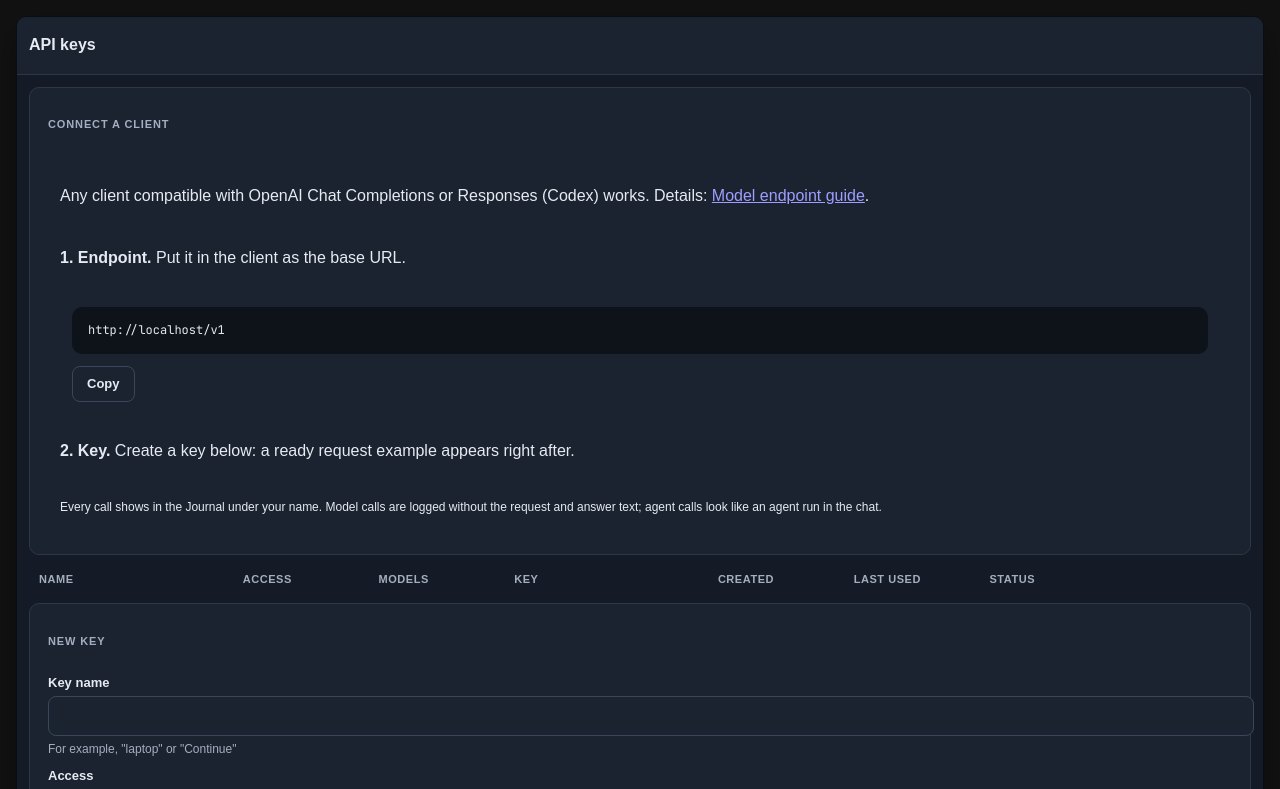
Test: API keys › a new key is shown once together with a curl example
The width and height of the screenshot is (1280, 789).
Later steps or results of the test are not shown.
In the field labelled "Key name": [651, 716] box [48,696,1254,736], type "laptop"
(page scrolled)
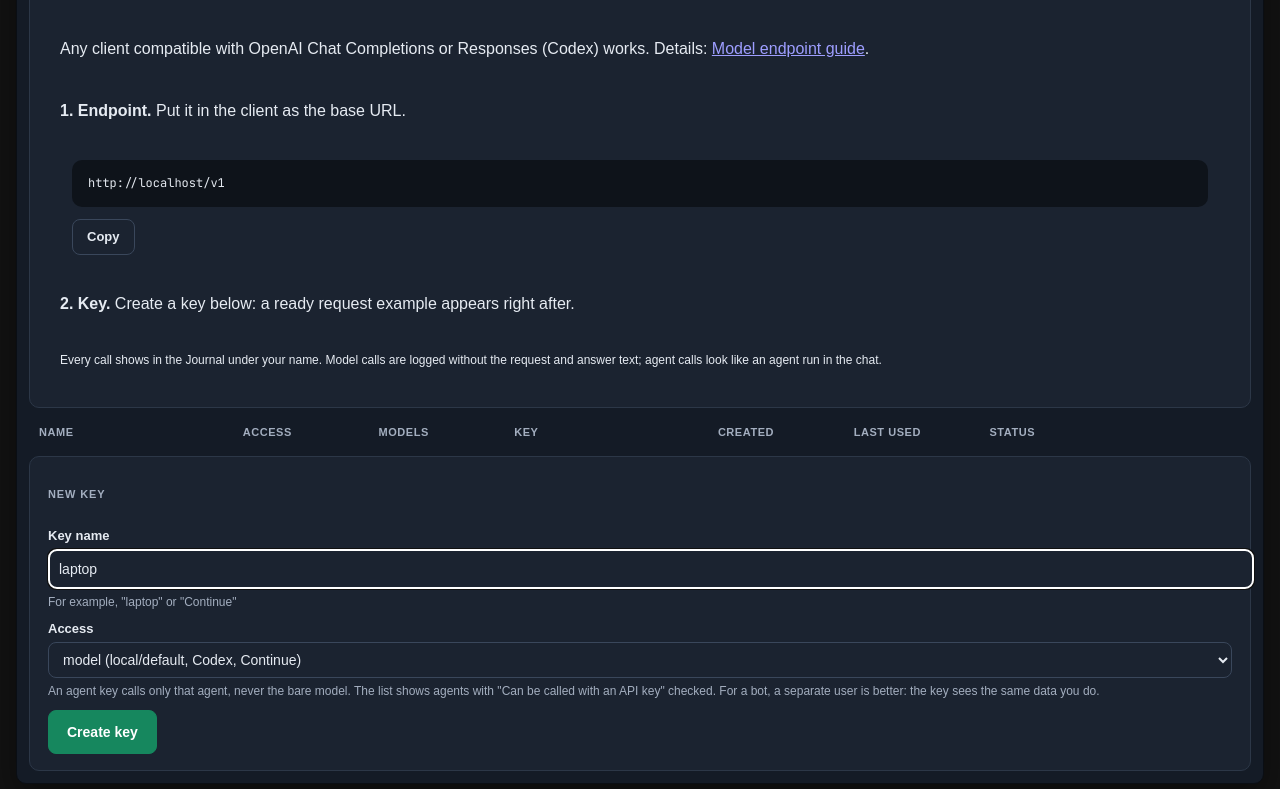
Click the button "Create key": [102, 732] box [48,710,157,754]
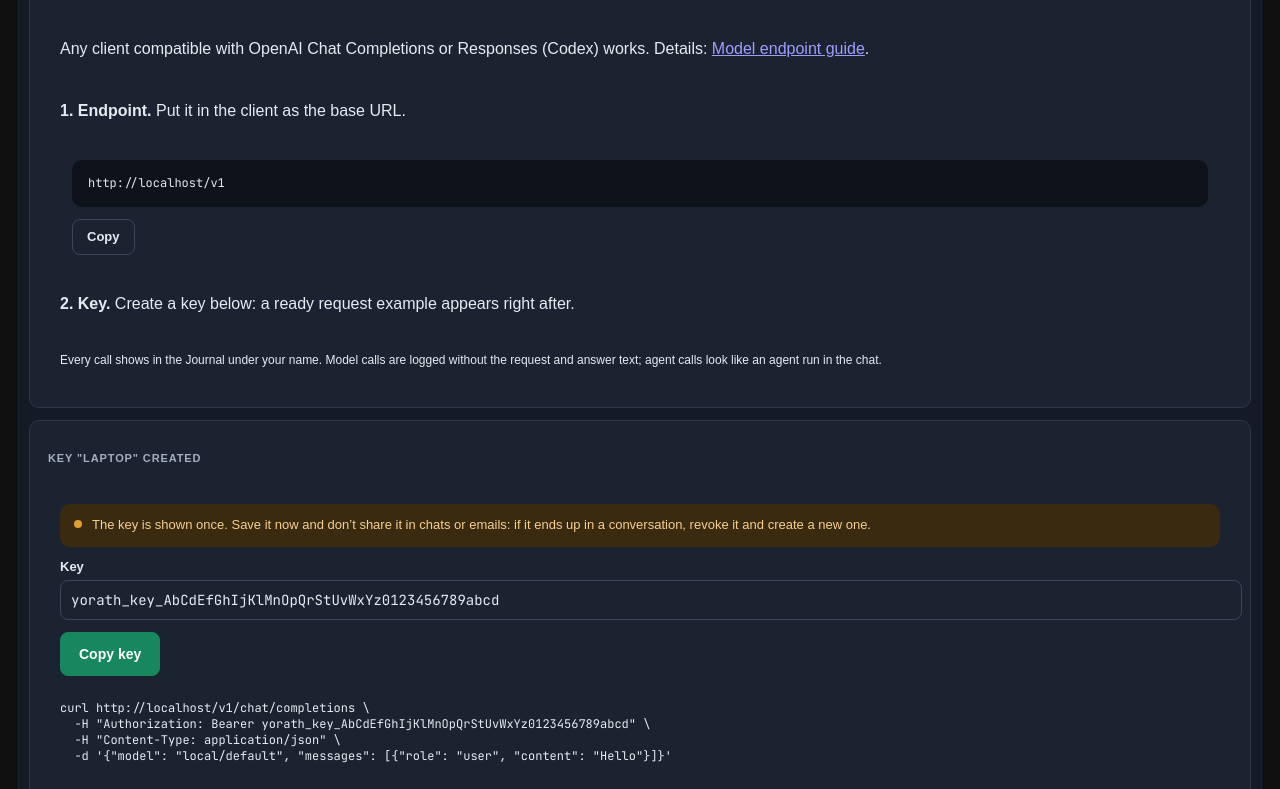
Check: the field showing "yorath_key_AbCdEfGhIjKlMnOpQrStUvWxYz0123456789abcd" is shown, box [60,580,1242,620]
Check: the text named "Request example" shows "/v1/chat/completions", box [60,700,672,764]
